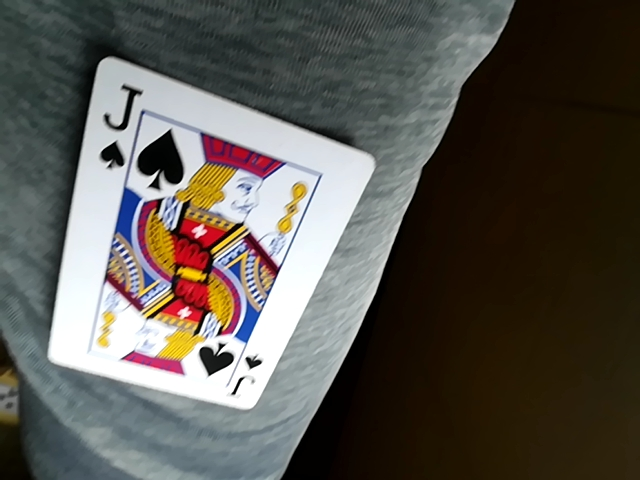ht j: (45, 55, 377, 415)
